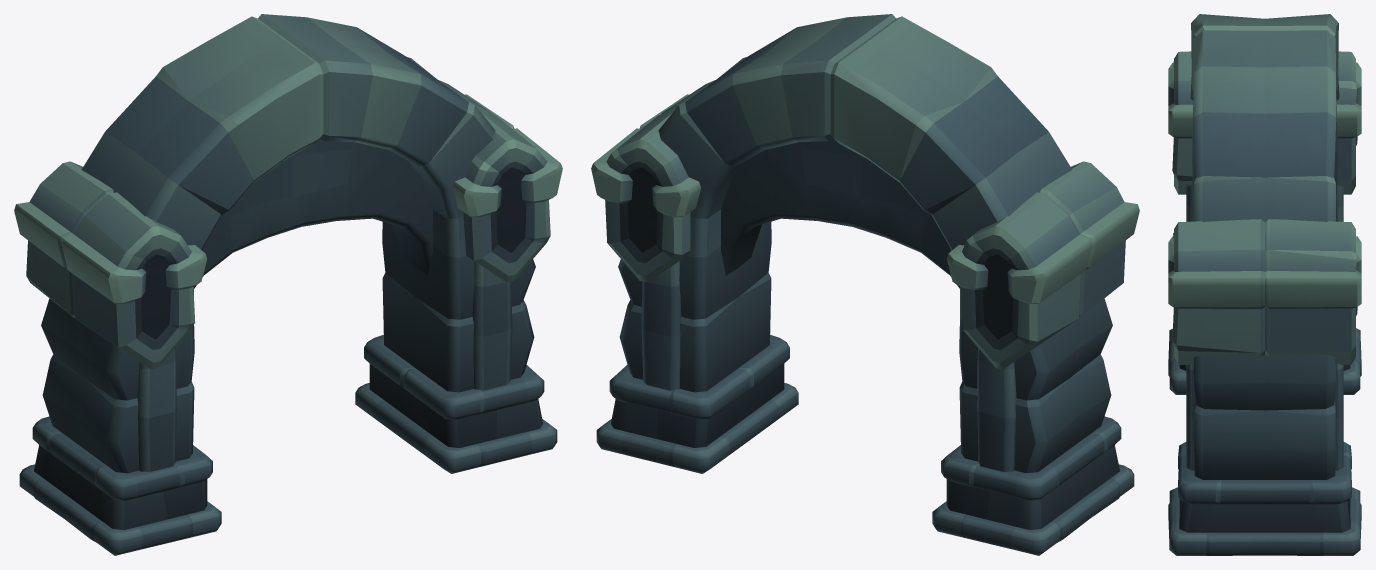
Rendered from doorway_boss.fbx.
3 renders of one model, left to right at view 1: azimuth 30°, elevation 25°; view 2: azimuth 150°, elevation 25°; view 3: azimuth 270°, elevation 25°, orthographic.
Parts seen in each view (by area): view 1: doorway_boss; view 2: doorway_boss; view 3: doorway_boss.
Part boxes in pixels (<box>): doorway_boss: <box>14,14,562,555</box>; doorway_boss: <box>591,14,1139,555</box>; doorway_boss: <box>1168,14,1361,555</box>.
Bounding box in the file's own units: 708 × 637 × 264.
